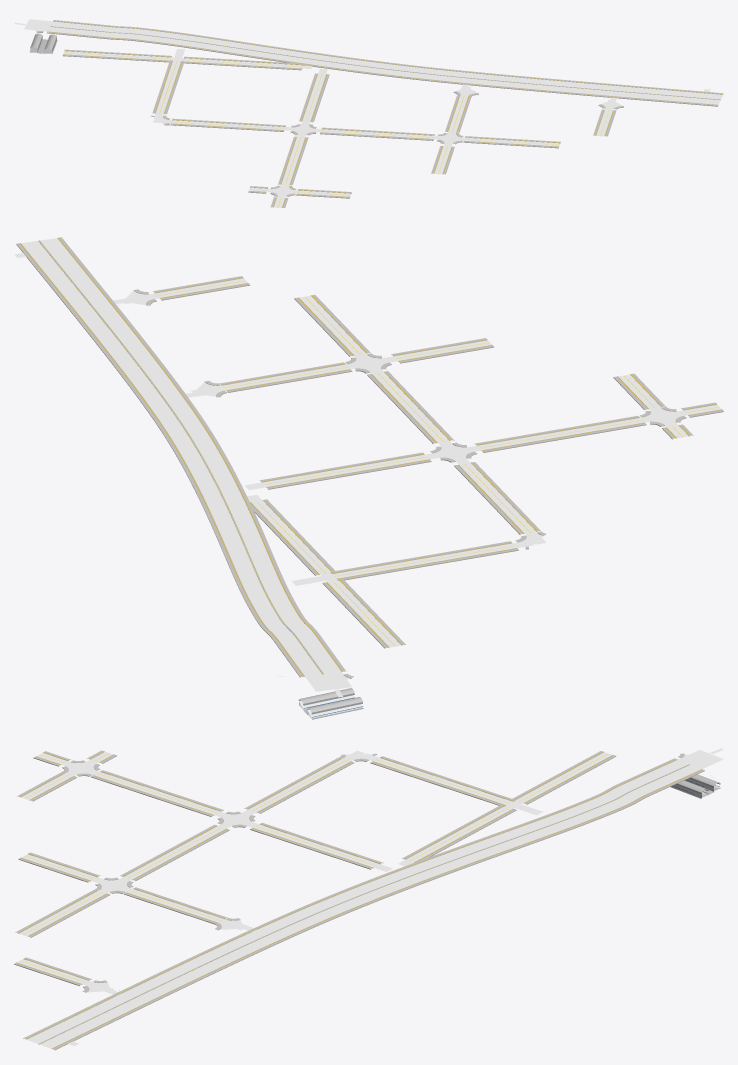
File: roads_0_0.gltf
3 renders of one model, top to bottom at view 1: azimuth 30°, elevation 25°; view 2: azimuth 150°, elevation 25°; view 3: azimuth 270°, elevation 25°, orthographic. The views are drawn at different scales.
Parts seen in each view (by area): view 1: roads_0_0_SH_wet_asphalt, roads_0_0_SH_sidewalk, roads_0_0_SH_kerb, roads_0_0_Road_Tactile_Strip, roads_0_0_SH_road_marking_white, roads_0_0_SH_road_marking_yellow; view 2: roads_0_0_SH_wet_asphalt, roads_0_0_SH_sidewalk, roads_0_0_SH_kerb, roads_0_0_Road_Tactile_Strip, roads_0_0_SH_road_marking_white, roads_0_0_SH_road_marking_yellow, roads_0_0_Road_Tunnel_Dark; view 3: roads_0_0_SH_wet_asphalt, roads_0_0_SH_sidewalk, roads_0_0_SH_kerb, roads_0_0_Road_Tactile_Strip, roads_0_0_SH_road_marking_white, roads_0_0_SH_road_marking_yellow.
Part boxes in pixels (left/top/right/bottom): roads_0_0_SH_wet_asphalt: left=14, top=14, right=722, bottom=207; roads_0_0_SH_sidewalk: left=36, top=20, right=723, bottom=207; roads_0_0_SH_kerb: left=29, top=21, right=722, bottom=207; roads_0_0_Road_Tactile_Strip: left=47, top=21, right=722, bottom=207; roads_0_0_SH_road_marking_white: left=31, top=22, right=722, bottom=207; roads_0_0_SH_road_marking_yellow: left=50, top=26, right=720, bottom=207; roads_0_0_SH_wet_asphalt: left=14, top=238, right=721, bottom=697; roads_0_0_SH_sidewalk: left=16, top=237, right=723, bottom=678; roads_0_0_SH_kerb: left=21, top=238, right=721, bottom=719; roads_0_0_Road_Tactile_Strip: left=20, top=237, right=722, bottom=676; roads_0_0_SH_road_marking_white: left=21, top=239, right=717, bottom=686; roads_0_0_SH_road_marking_yellow: left=38, top=241, right=718, bottom=673; roads_0_0_Road_Tunnel_Dark: left=298, top=688, right=362, bottom=718; roads_0_0_SH_wet_asphalt: left=17, top=748, right=723, bottom=1048; roads_0_0_SH_sidewalk: left=14, top=750, right=704, bottom=1050; roads_0_0_SH_kerb: left=17, top=751, right=720, bottom=1048; roads_0_0_Road_Tactile_Strip: left=16, top=751, right=702, bottom=1048; roads_0_0_SH_road_marking_white: left=21, top=752, right=710, bottom=1047; roads_0_0_SH_road_marking_yellow: left=21, top=753, right=688, bottom=1043.
Size of what is drawn, in the model's own units: 530 by 22.17 by 527.
